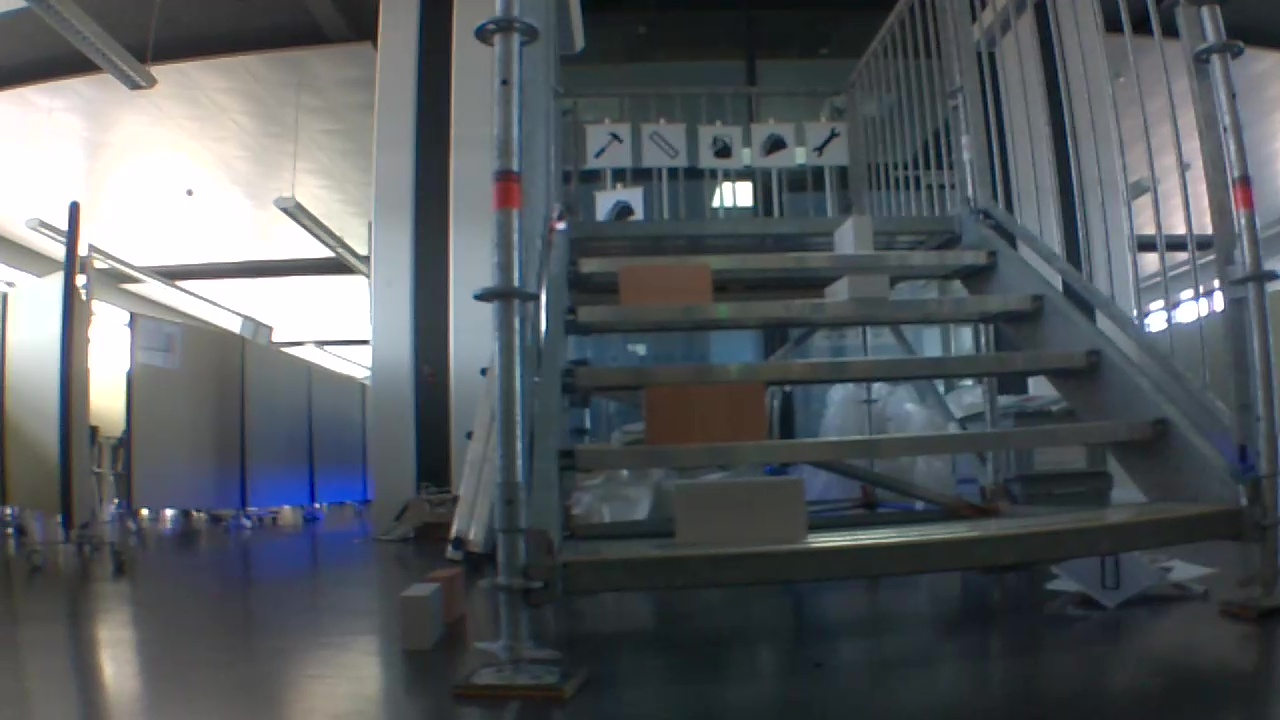brick: (673, 476, 802, 544), (646, 379, 767, 442), (619, 264, 711, 305), (400, 583, 439, 649), (430, 567, 463, 620), (826, 275, 890, 299), (833, 214, 871, 251)
bucket: (704, 130, 736, 162)
edge: (557, 505, 1237, 593), (563, 418, 1164, 465), (564, 346, 1100, 385), (567, 295, 1044, 322), (568, 248, 996, 273), (569, 215, 961, 233)
hammer: (589, 126, 629, 163)
ruler: (646, 127, 683, 162)
stairs: (449, 3, 1280, 703)
steps: (548, 207, 1255, 611)
taco: (756, 129, 790, 161), (598, 195, 638, 222)
wrench: (807, 123, 844, 162)
